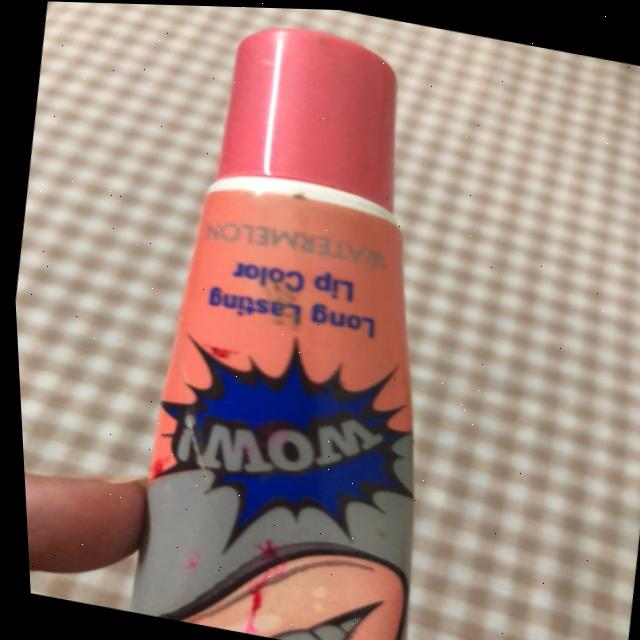lip balm: (80, 2, 506, 640)
